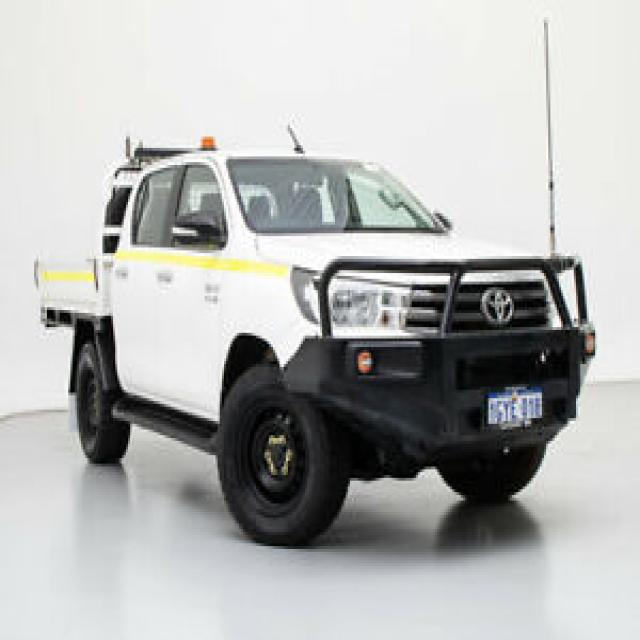light_vehicle: (22, 122, 600, 540)
